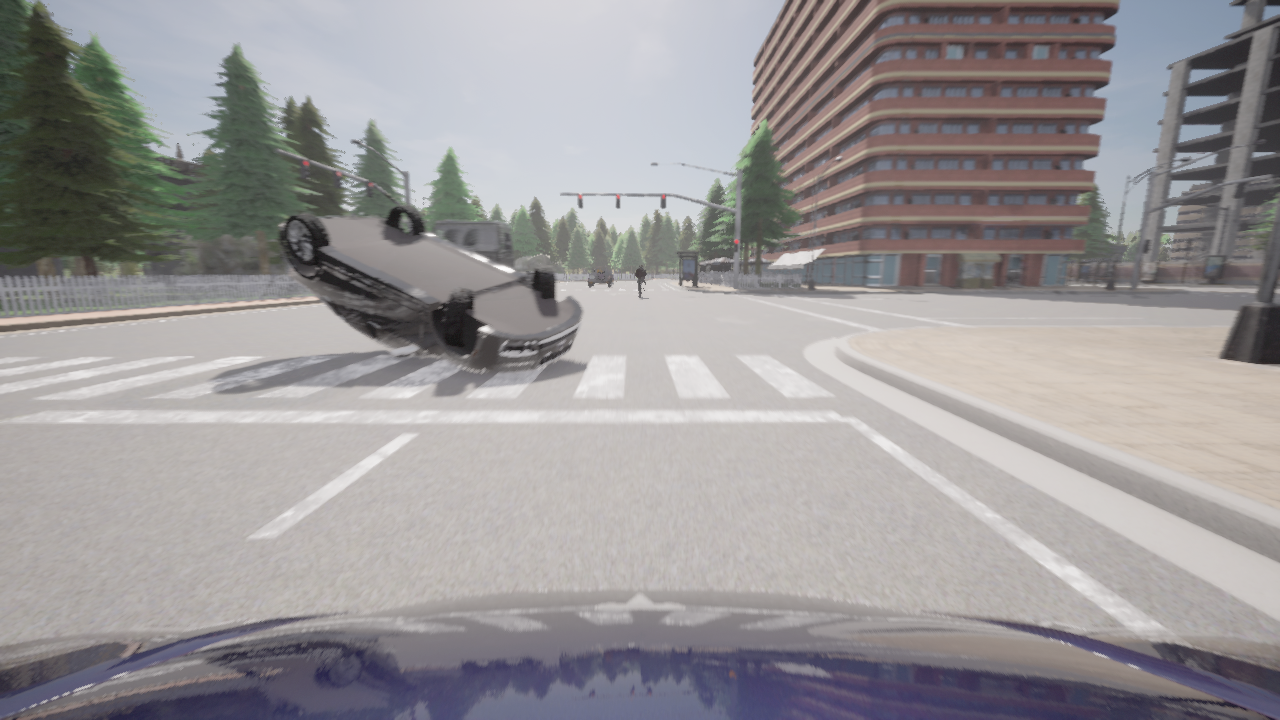cyclist: (0, 588, 1279, 719), (277, 204, 583, 372), (431, 220, 532, 287), (587, 266, 612, 287), (641, 282, 642, 293)
